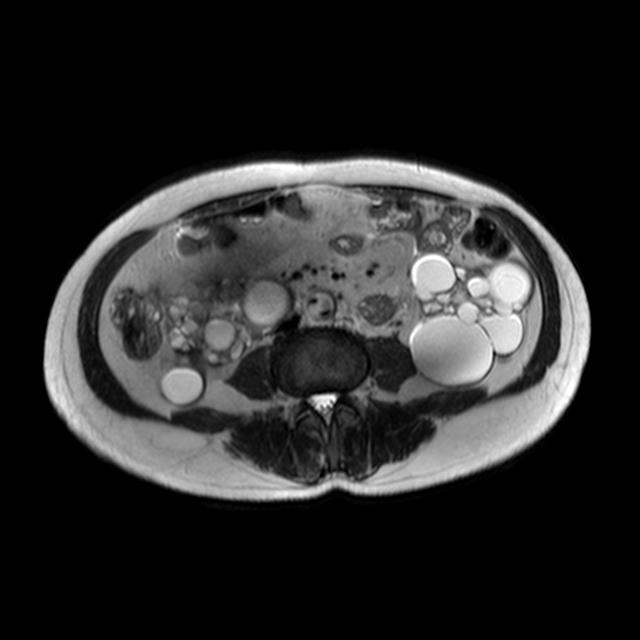sag: (156, 273, 291, 409)
sol: (407, 251, 535, 388)
